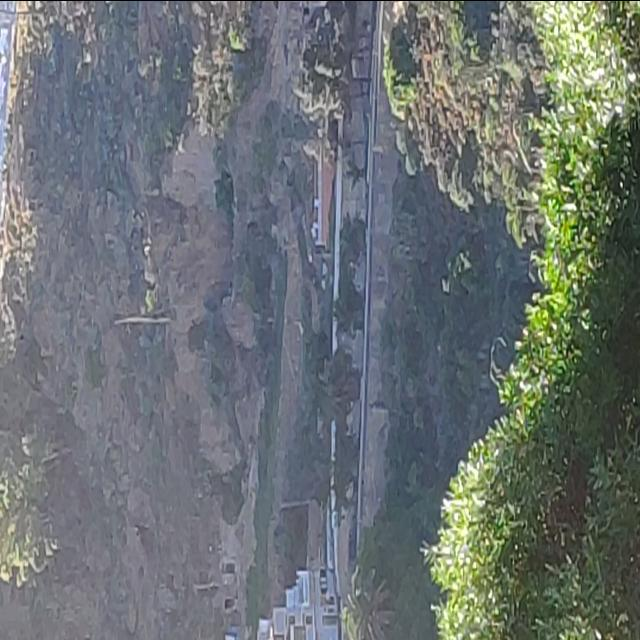Palm-Trees: (341, 564, 391, 640)
